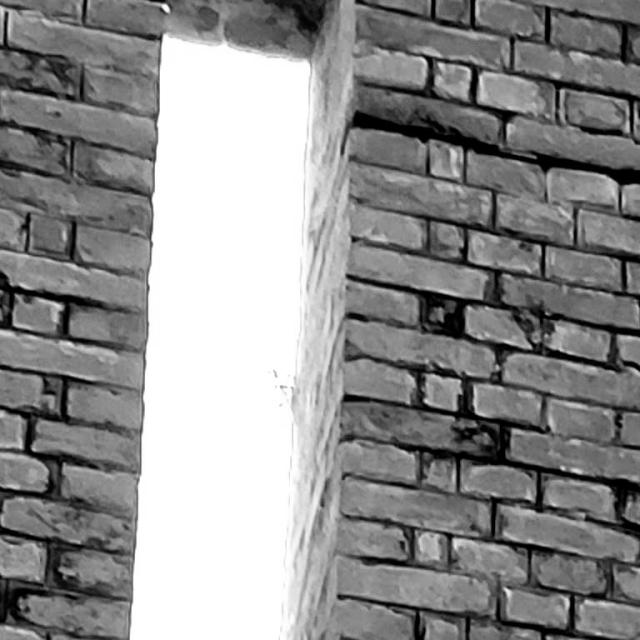crack: (341, 110, 640, 185)
